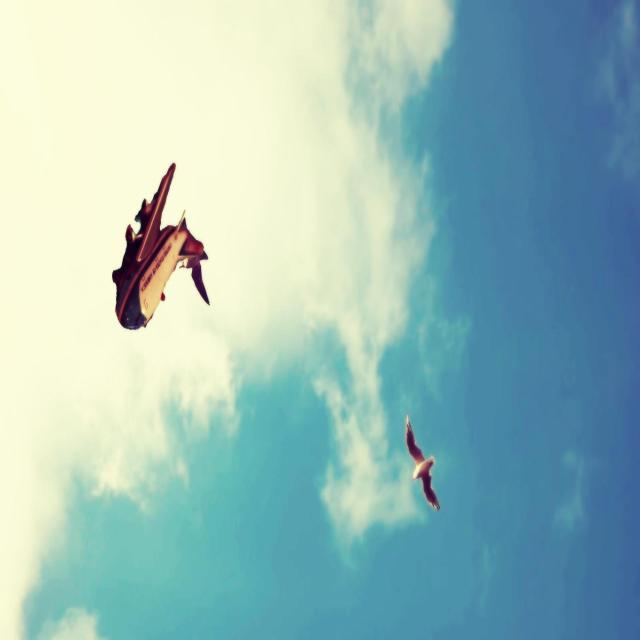airplane: (112, 161, 210, 331)
